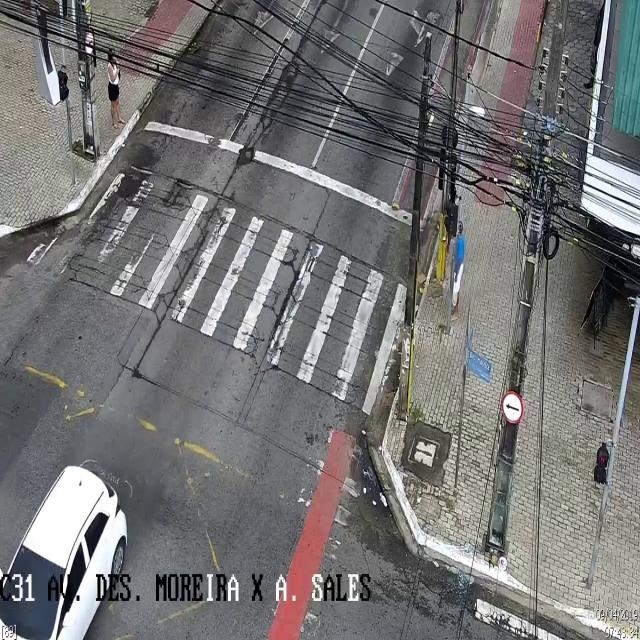Car: (0, 459, 128, 640)
